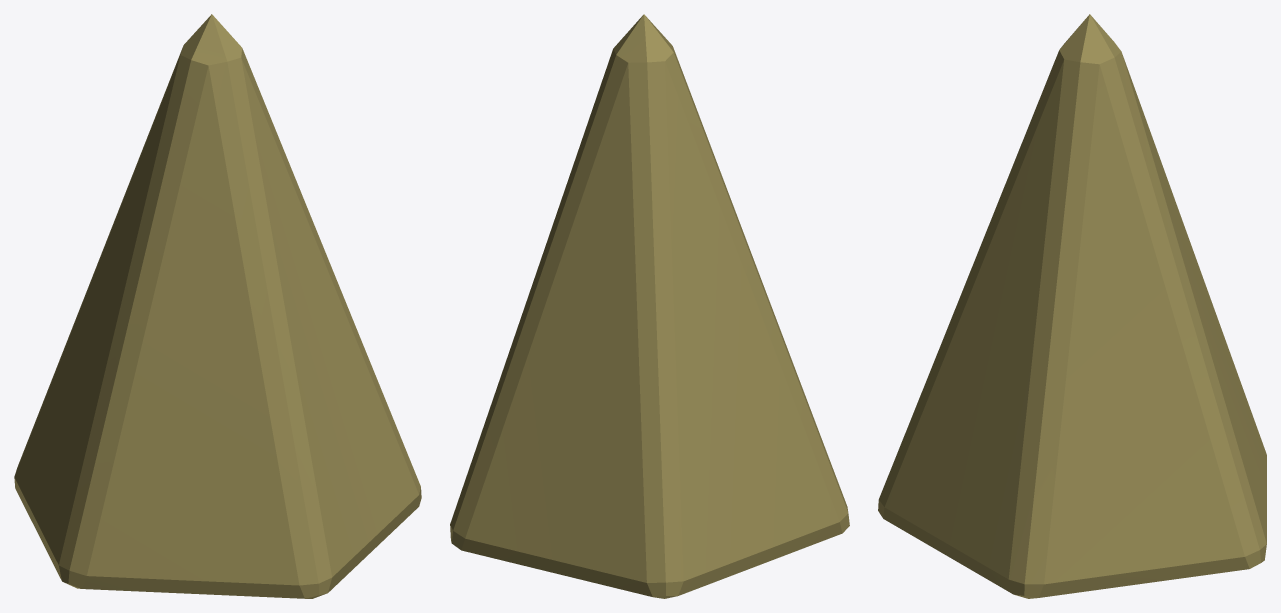
The model's file is prop_fiber.glb.
The picture shows the model from 3 angles, left to right: view 1: azimuth 30°, elevation 25°; view 2: azimuth 150°, elevation 25°; view 3: azimuth 270°, elevation 25°; orthographic projection.
Parts seen in each view (by area): view 1: prop_fiber_part_0; view 2: prop_fiber_part_0; view 3: prop_fiber_part_0.
Part boxes in pixels (x1,y1,x2,y2): prop_fiber_part_0: (14,14,421,598); prop_fiber_part_0: (450,14,849,598); prop_fiber_part_0: (878,14,1266,598).
Bounding box in the file's own units: 0.3554 × 0.4915 × 0.343.
